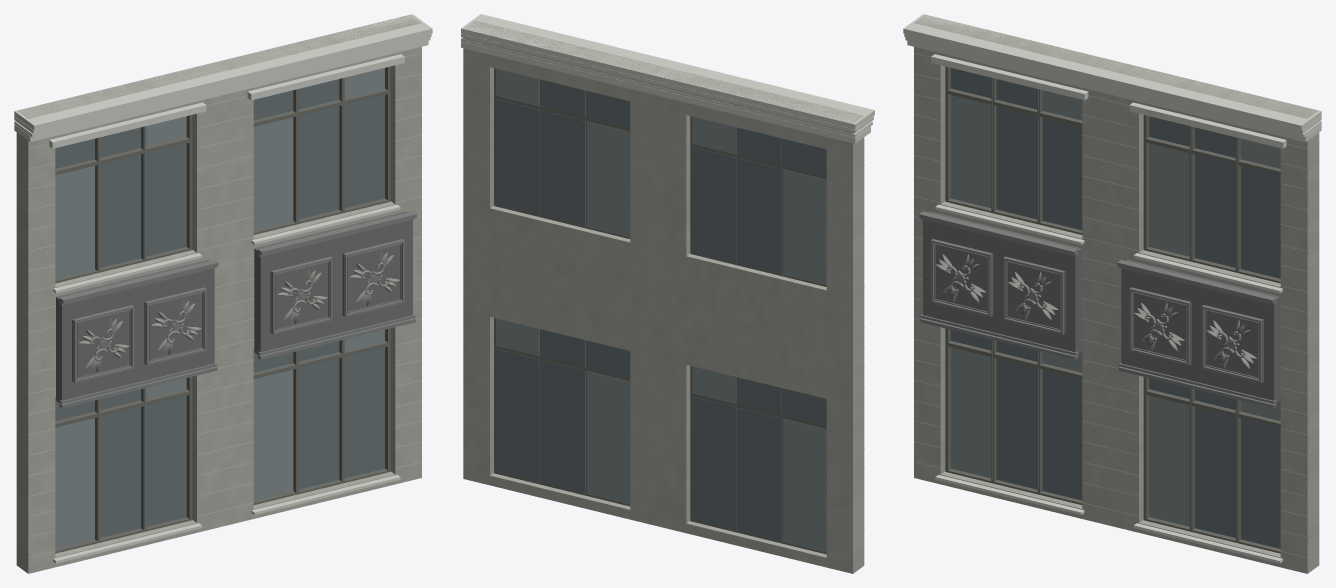
The model's file is sichuan-330-relief-spandrel-near.glb.
3 renders of one model, left to right at view 1: azimuth 30°, elevation 25°; view 2: azimuth 150°, elevation 25°; view 3: azimuth 330°, elevation 25°, orthographic.
Visible parts, largest first — view 1: 四川中路330号深色浮饰窗间板与通高窗列; view 2: 四川中路330号深色浮饰窗间板与通高窗列; view 3: 四川中路330号深色浮饰窗间板与通高窗列.
Part boxes in pixels (x1=…): 四川中路330号深色浮饰窗间板与通高窗列: x1=14, y1=14, x2=432, y2=573; 四川中路330号深色浮饰窗间板与通高窗列: x1=461, y1=14, x2=874, y2=573; 四川中路330号深色浮饰窗间板与通高窗列: x1=903, y1=14, x2=1321, y2=573.
Bounding box in the file's own units: 5.06 × 5.52 × 0.606.
Materials: 10 (1 with a texture image).
